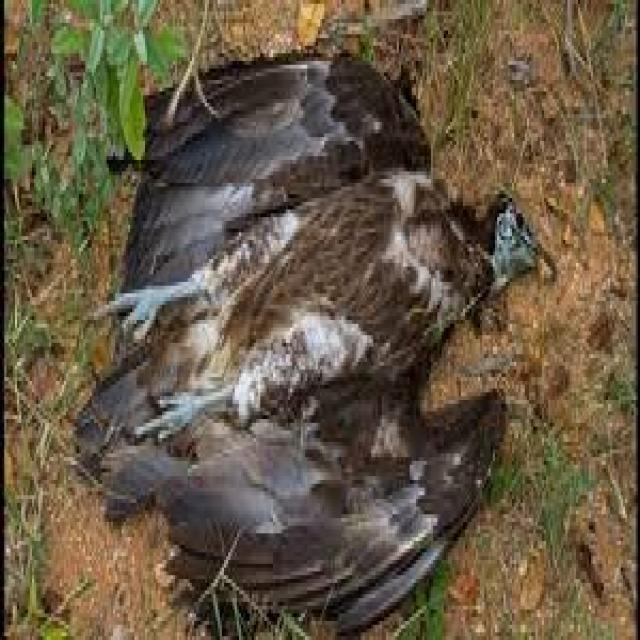Bangkai Burung: (126, 44, 571, 636)
